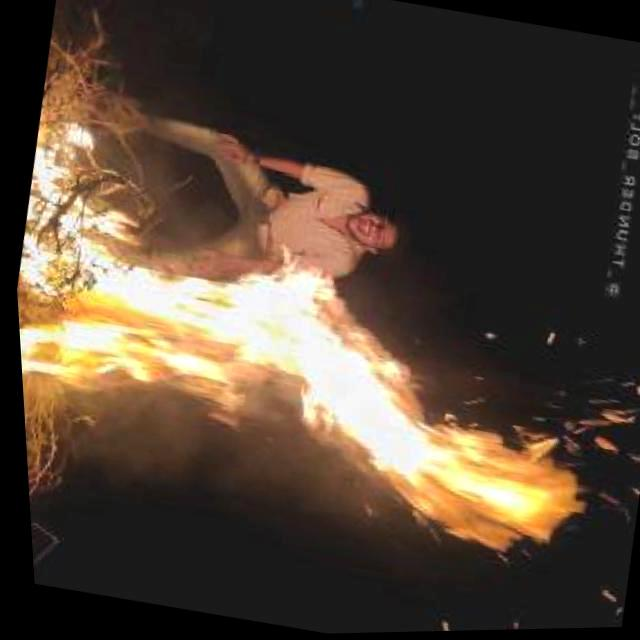fire: (6, 107, 638, 593)
